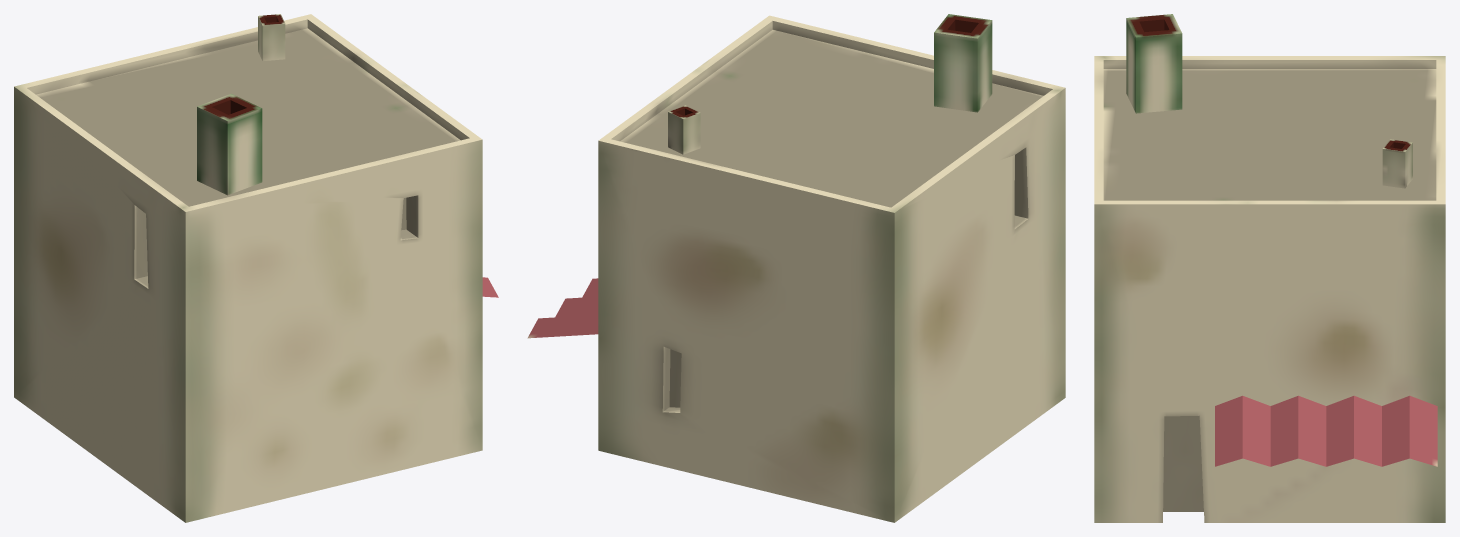
File: House6.fbx
The picture shows the model from 3 angles, left to right: view 1: azimuth 30°, elevation 25°; view 2: azimuth 150°, elevation 25°; view 3: azimuth 270°, elevation 25°; orthographic projection. The views are drawn at different scales.
Visible parts, largest first — view 1: House 6; view 2: House 6; view 3: House 6.
Boxes of the visible parts, x1,y1,x2,y2 form: House 6: (14, 14, 498, 522); House 6: (527, 14, 1065, 522); House 6: (1094, 14, 1445, 522).
Bounding box in the file's own units: 505 × 484 × 400.
